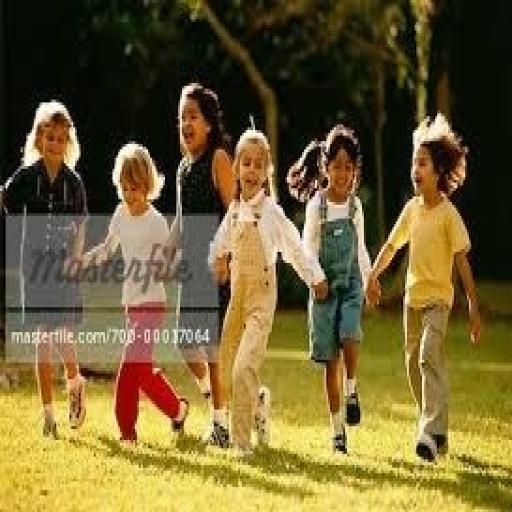running: (364, 111, 484, 465), (205, 124, 330, 460), (62, 138, 193, 451), (2, 97, 92, 443), (289, 122, 379, 459), (161, 80, 240, 448)
